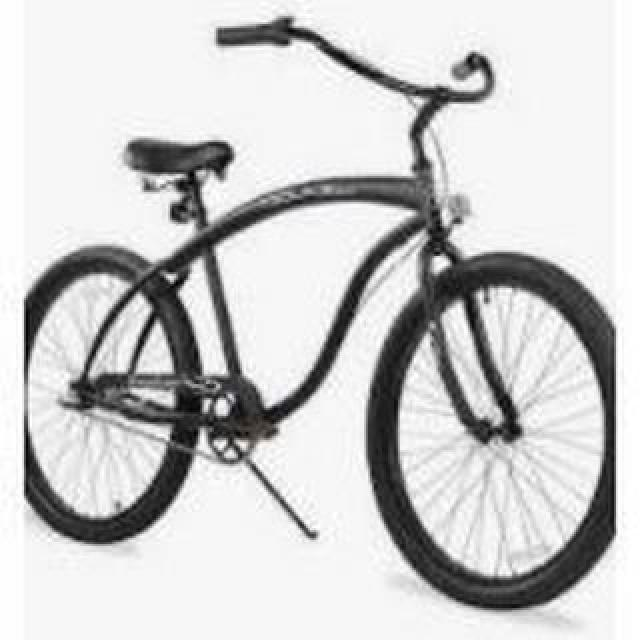Person: (25, 17, 615, 615)
